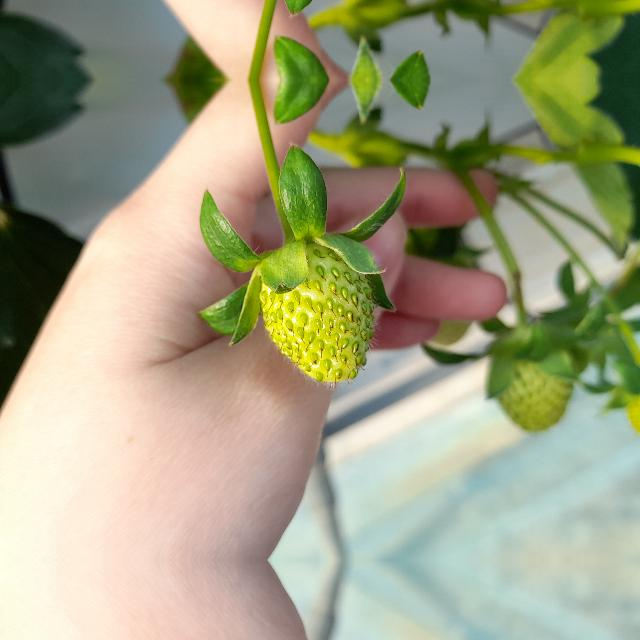Health_25: (258, 242, 380, 390)
